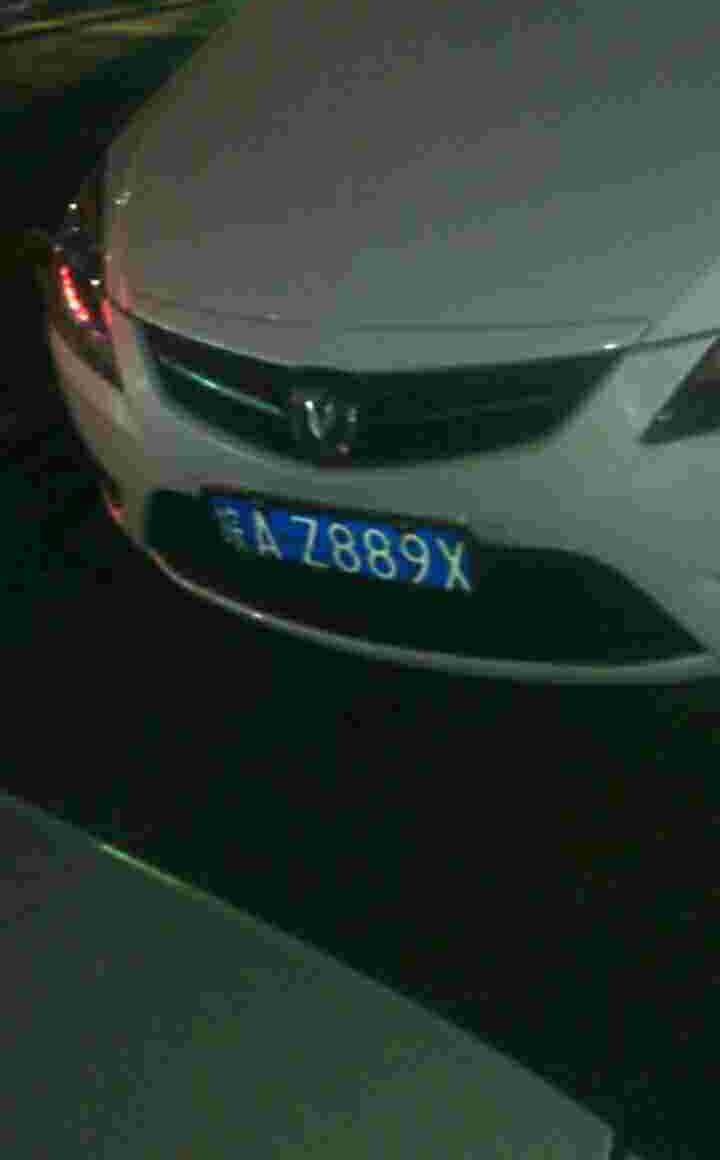license_plate: (214, 486, 477, 585)
